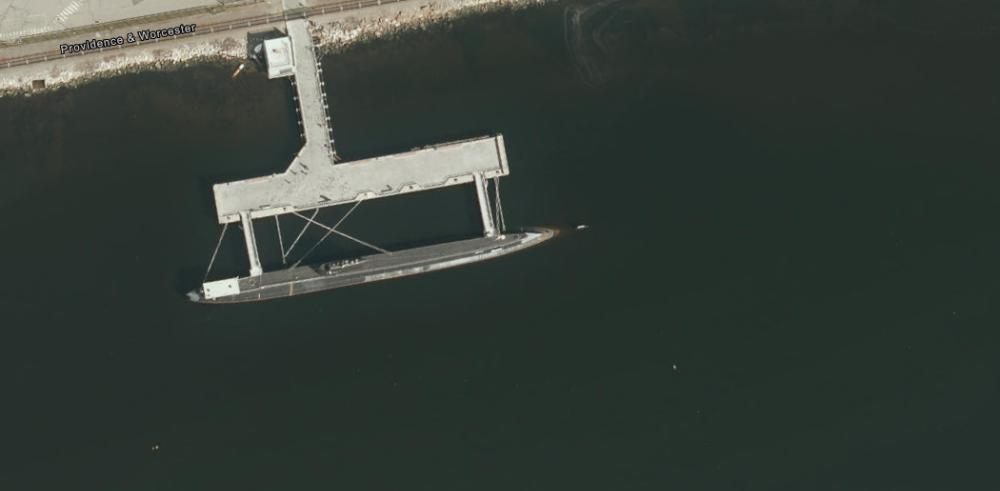submarine: (184, 222, 600, 307)
